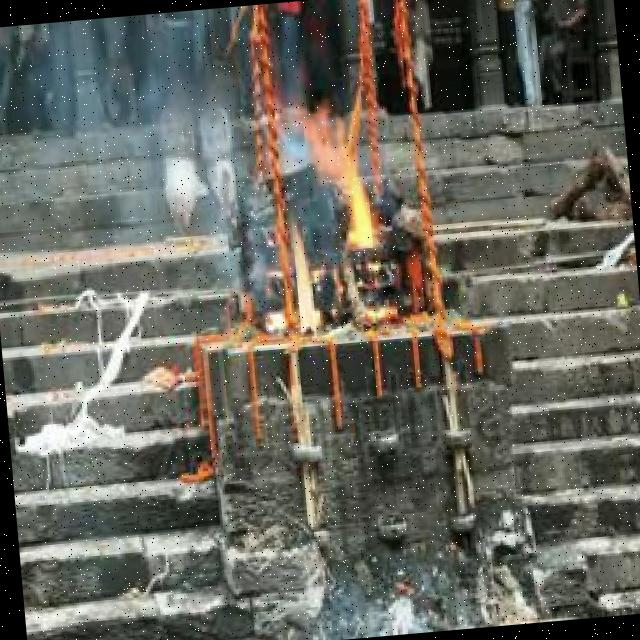fire: (302, 107, 404, 254)
